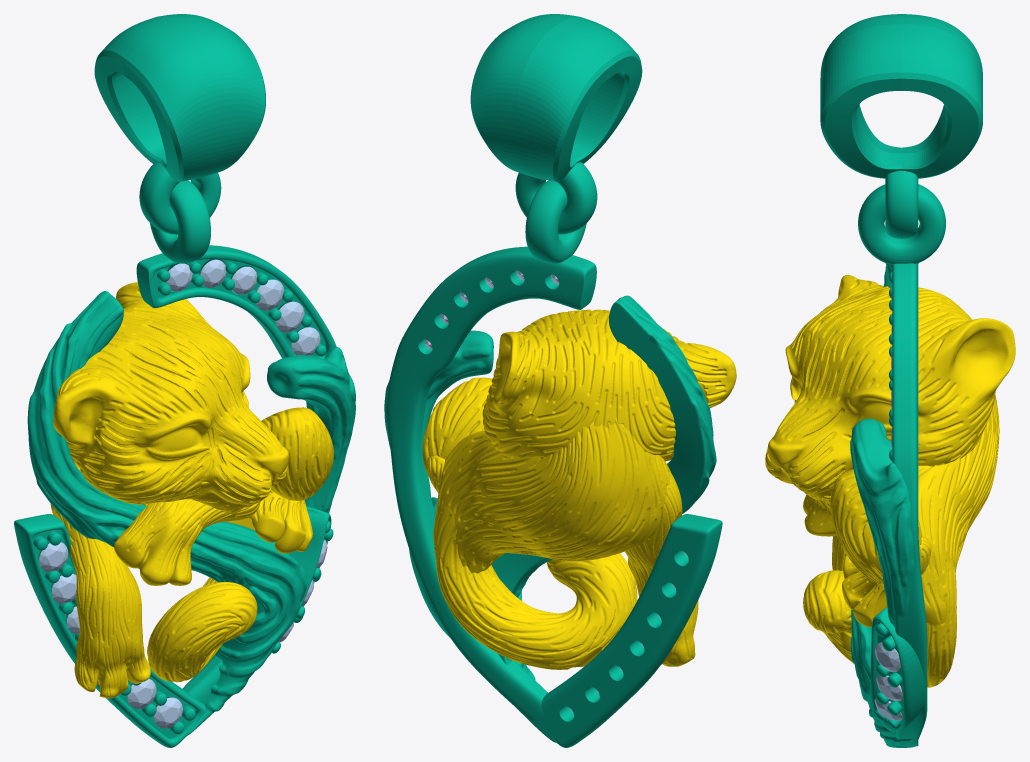
3 renders of one model, left to right at view 1: azimuth 30°, elevation 25°; view 2: azimuth 150°, elevation 25°; view 3: azimuth 270°, elevation 25°, orthographic. The views are drawn at different scales.
Visible parts, largest first — view 1: PG-F (159).3dm, Diamond_Round (×9); view 2: PG-F (159).3dm; view 3: PG-F (159).3dm, Diamond_Round.
Part boxes in pixels (x1,y1,x2,y2): PG-F (159).3dm: (14,14,355,747); Diamond_Round (×9): (39,259,320,728); PG-F (159).3dm: (384,14,736,747); PG-F (159).3dm: (765,14,1015,747); Diamond_Round: (874,642,900,672).
Size of the model in its own units: 1.68 by 3.47 by 1.08.
